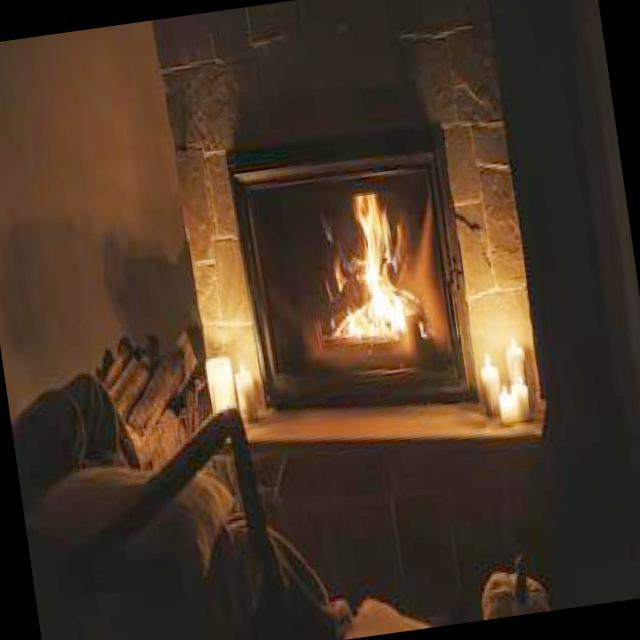Fire_Save: (226, 121, 480, 428), (306, 180, 436, 358)
